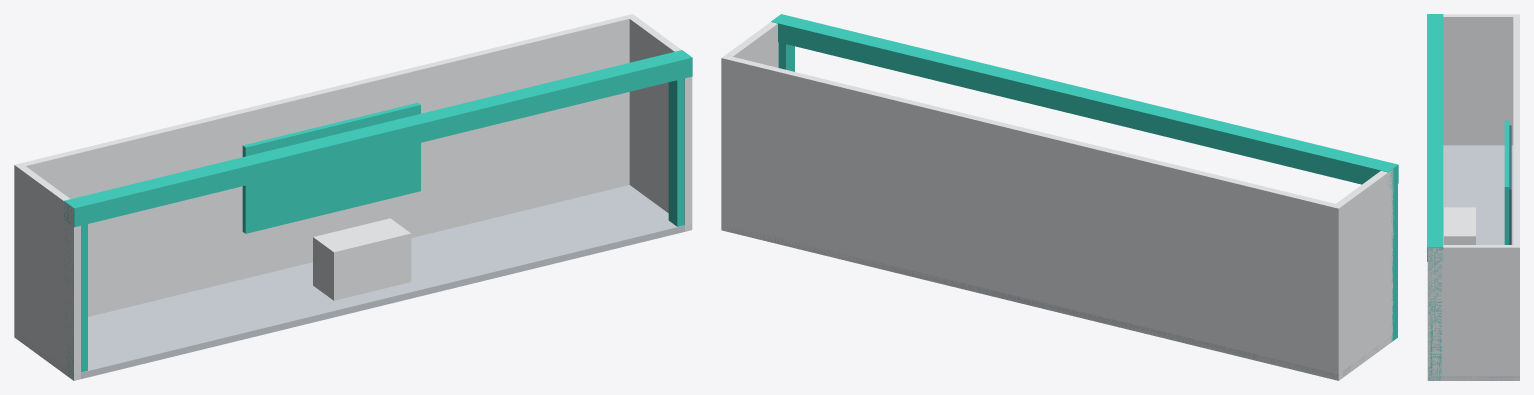
3 views of the same model, side by side, from view 1: azimuth 30°, elevation 25°; view 2: azimuth 150°, elevation 25°; view 3: azimuth 270°, elevation 25° (orthographic). The views are drawn at different scales.
Parts seen in each view (by area): view 1: Exhibition Booth Concept; view 2: Exhibition Booth Concept; view 3: Exhibition Booth Concept.
Boxes of the visible parts, <box> form: Exhibition Booth Concept: <box>14,14,692,380</box>; Exhibition Booth Concept: <box>721,14,1398,380</box>; Exhibition Booth Concept: <box>1427,14,1519,380</box>.
Bounding box in the file's own units: 12 × 3.2 × 2.01.
